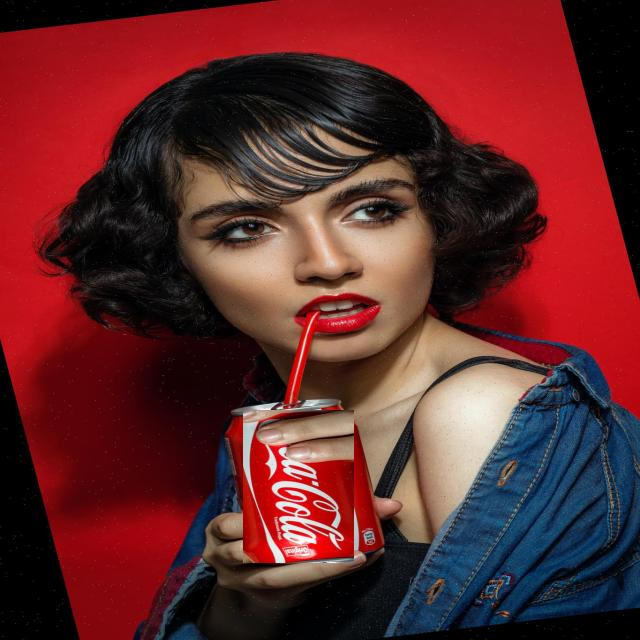coca-cola: (243, 410, 354, 563)
